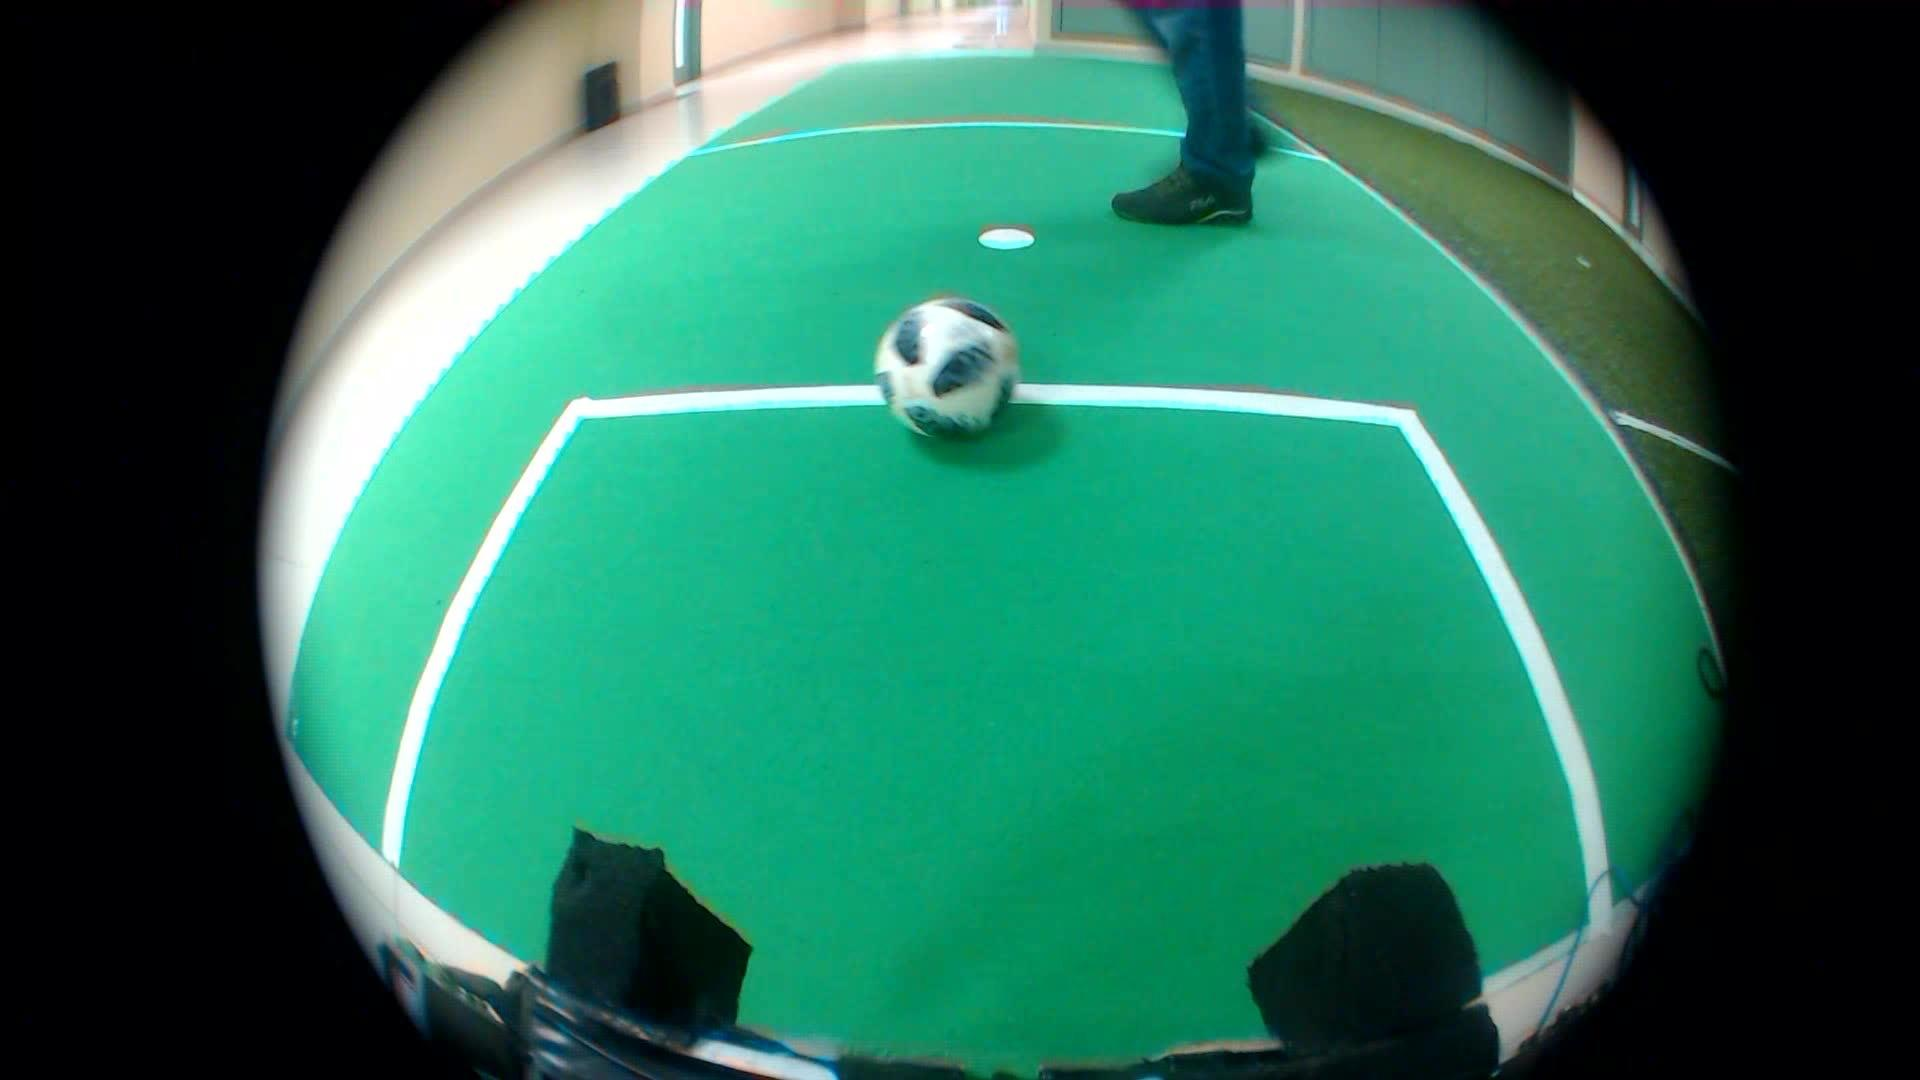ball: (857, 284, 1048, 459)
